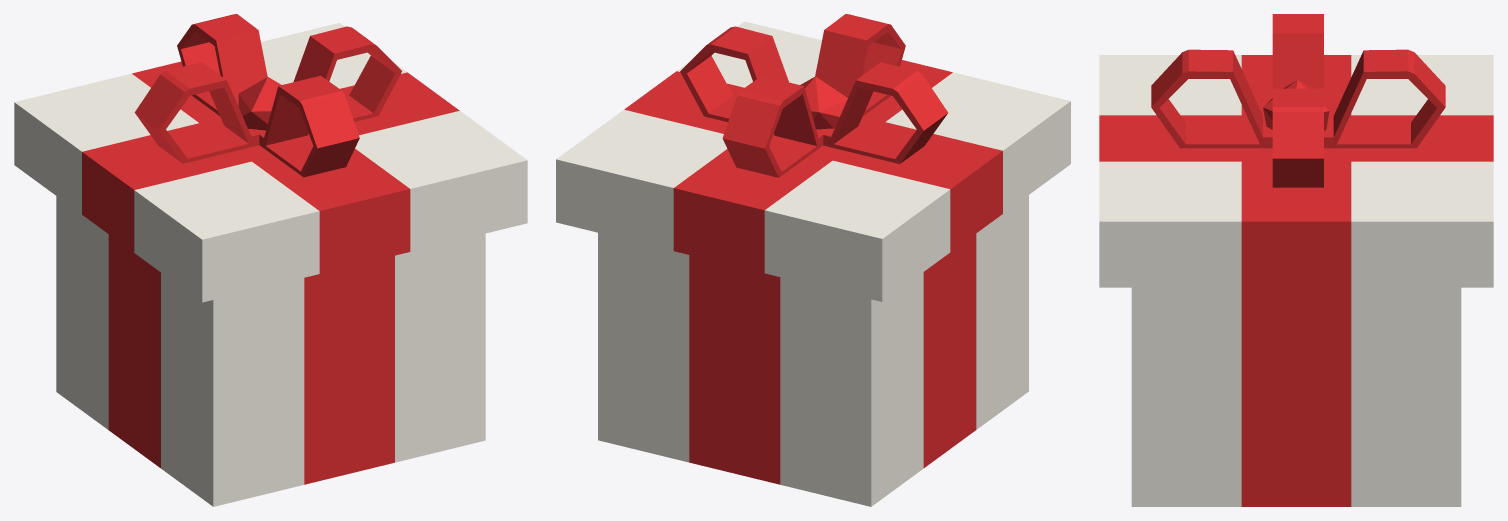
The model's file is gift.fbx.
3 views of the same model, side by side, from view 1: azimuth 30°, elevation 25°; view 2: azimuth 150°, elevation 25°; view 3: azimuth 270°, elevation 25° (orthographic). The views are drawn at different scales.
Parts seen in each view (by area): view 1: Icosphere; view 2: Icosphere; view 3: Icosphere.
Part boxes in pixels (x1=…): Icosphere: x1=14, y1=14, x2=527, y2=506; Icosphere: x1=556, y1=14, x2=1070, y2=506; Icosphere: x1=1099, y1=14, x2=1493, y2=506.
Size of the model in its own units: 195 by 205 by 195.
